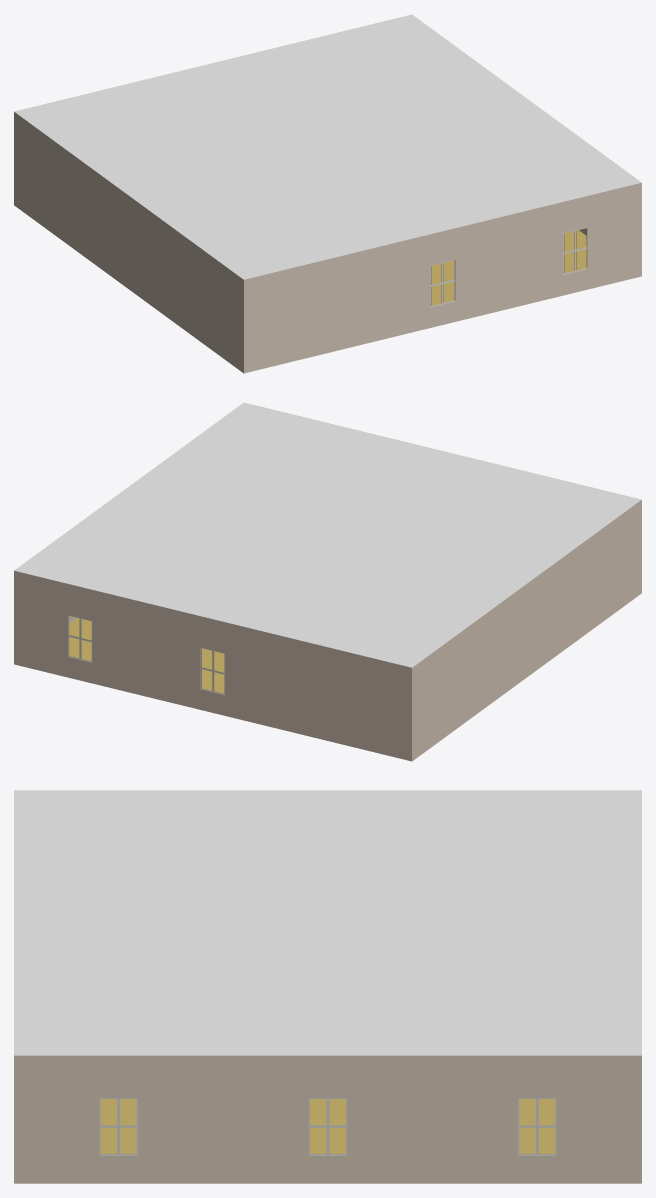
File: room.fbx
The picture shows the model from 3 angles, top to bottom: view 1: azimuth 30°, elevation 25°; view 2: azimuth 150°, elevation 25°; view 3: azimuth 270°, elevation 25°; orthographic projection. The views are drawn at different scales.
Parts seen in each view (by area): view 1: Room; view 2: Room; view 3: Room.
Part boxes in pixels (bbox=[...]): Room: bbox=[14, 14, 641, 373]; Room: bbox=[14, 402, 641, 761]; Room: bbox=[14, 790, 641, 1183].
Size of the model in its own units: 2000 by 450 by 2000.
